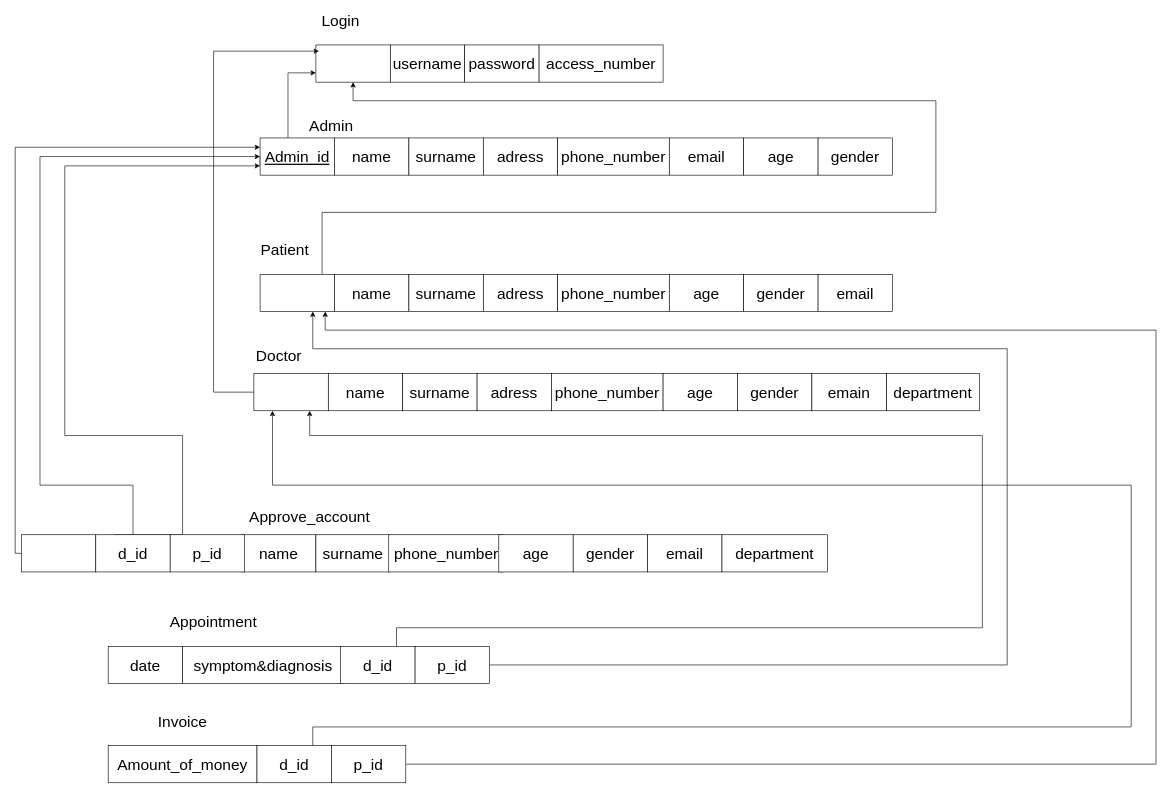
Image size: 1172x794. Some labels were removed from this diagram. The shapes that lost their labels are listed below. From the top down, each one's box as (x1, y1, x2, y2) in pixels, then its label:
(315, 44, 390, 82): id
(259, 274, 334, 312): Patient_id
(253, 373, 328, 411): doctor_id
(21, 534, 96, 572): a_id
